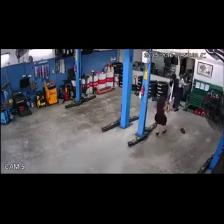person: (155, 97, 167, 135), (170, 74, 181, 111)
